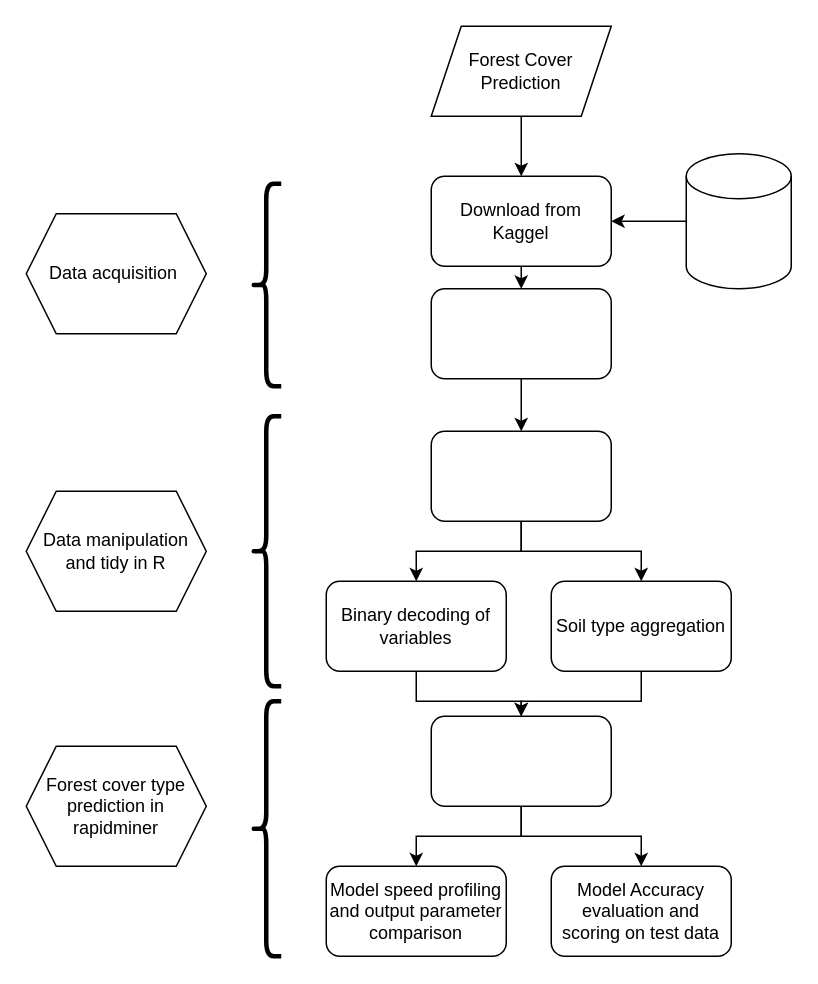
The diagram is 818 pixels wide and 984 high, and some of its shapes have lost their labels. The shapes that lost their labels are listed below. From the top down, each one's centre as x and y in pixels, then its label:
At point 738,220: "Forest cover and topology dataset".
At point 520,333: "Division into test and Training data".
At point 520,475: "Data restucturing".
At point 520,760: "Model configuration and training".
